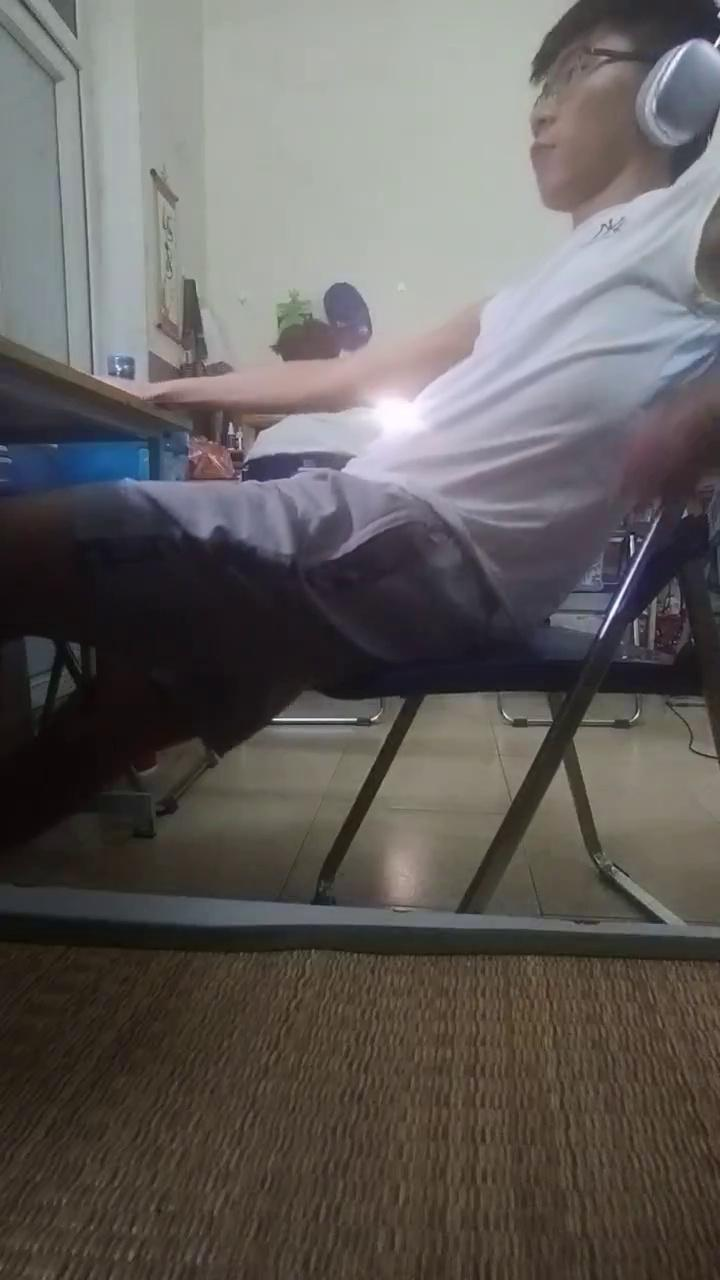BadPosture: (0, 0, 719, 854)
